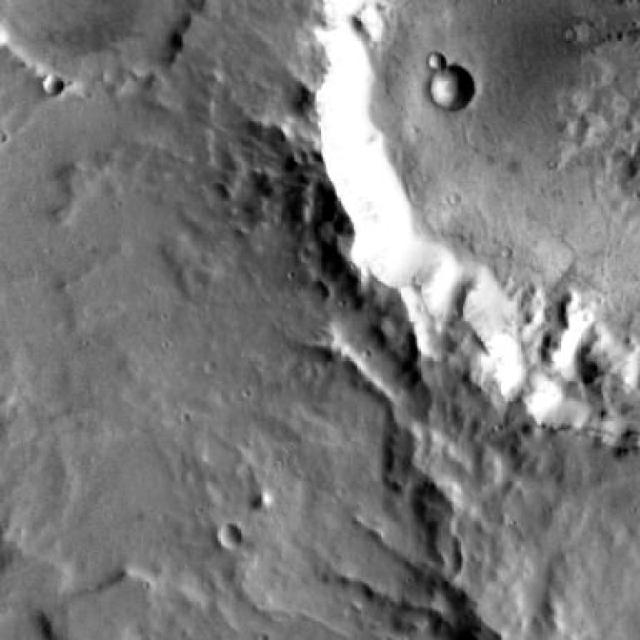crater: (327, 8, 640, 509), (430, 67, 475, 110), (216, 526, 241, 551), (41, 77, 61, 97), (424, 58, 442, 76)
